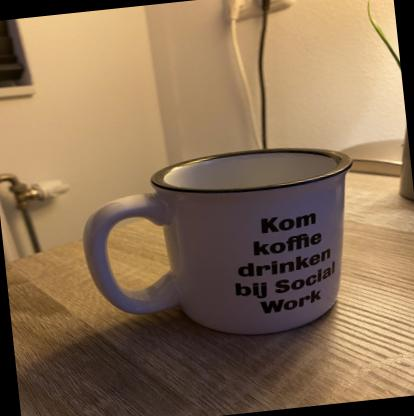Cup: (71, 134, 375, 358)
